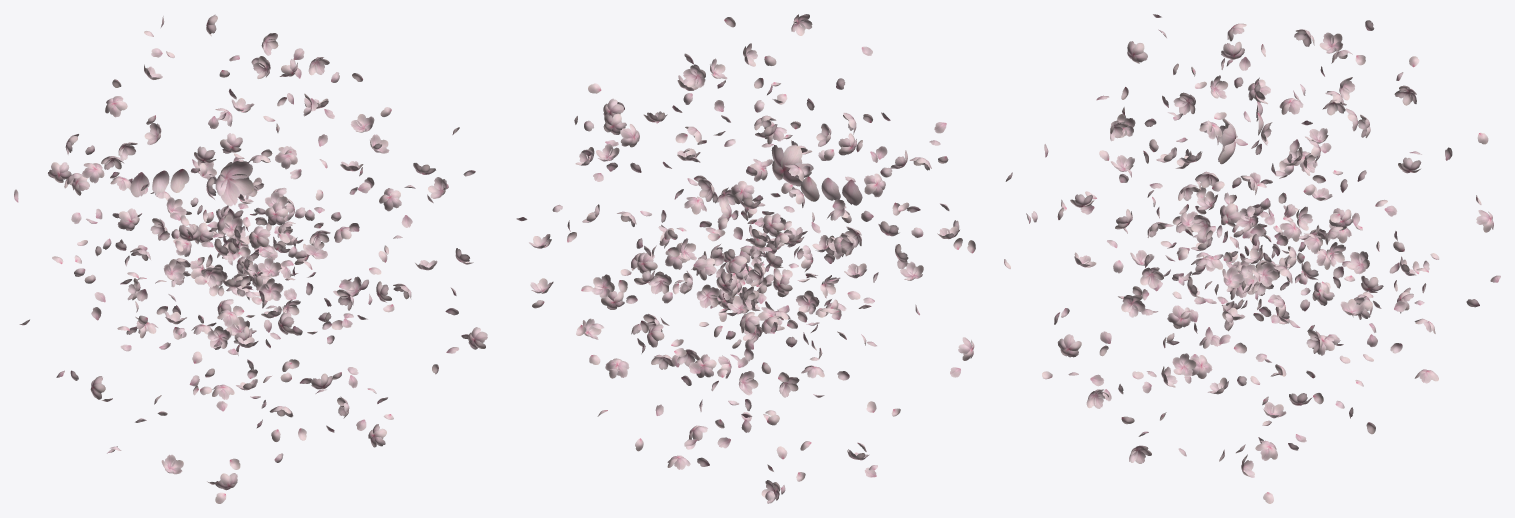
Rendered from cherry_blossoms-v1.glb.
3 renders of one model, left to right at view 1: azimuth 30°, elevation 25°; view 2: azimuth 150°, elevation 25°; view 3: azimuth 270°, elevation 25°, orthographic. The views are drawn at different scales.
Visible parts, largest first — view 1: 03_petal01_0; view 2: 03_petal03_0; view 3: no part large enough to name.
Boxes of the visible parts, <box> form: 03_petal01_0: <box>220,161,252,206</box>; 03_petal03_0: <box>772,145,802,180</box>.
Bounding box in the file's own units: 295 × 307 × 305.
3 materials, 3 textured.
